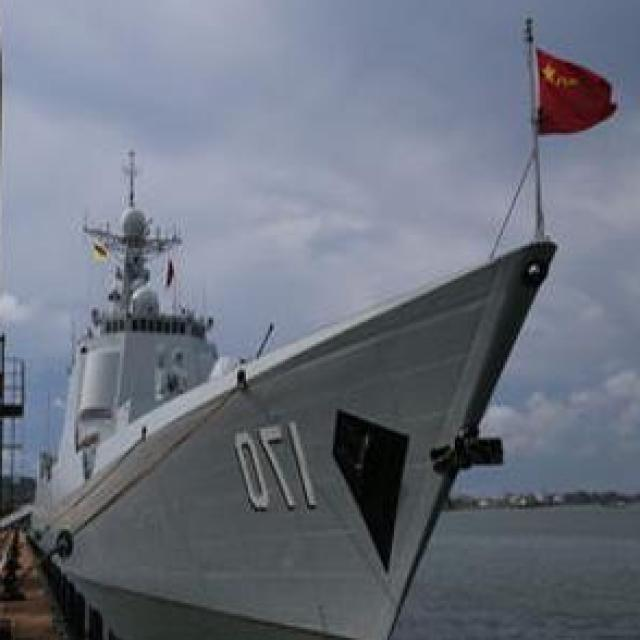navalvessels: (21, 170, 571, 630)
